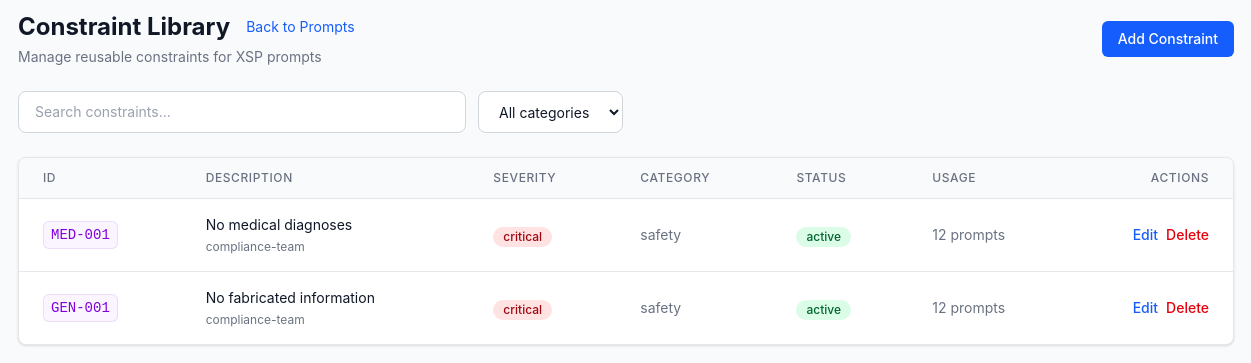
Test: ConstraintLibrary › filters constraints by search input
Expected: the text "MED-001" is shown, [43,221,118,249]
In the field with placeholder "Search constraints...": (242, 112) [18,91,466,133], type "fabricated"
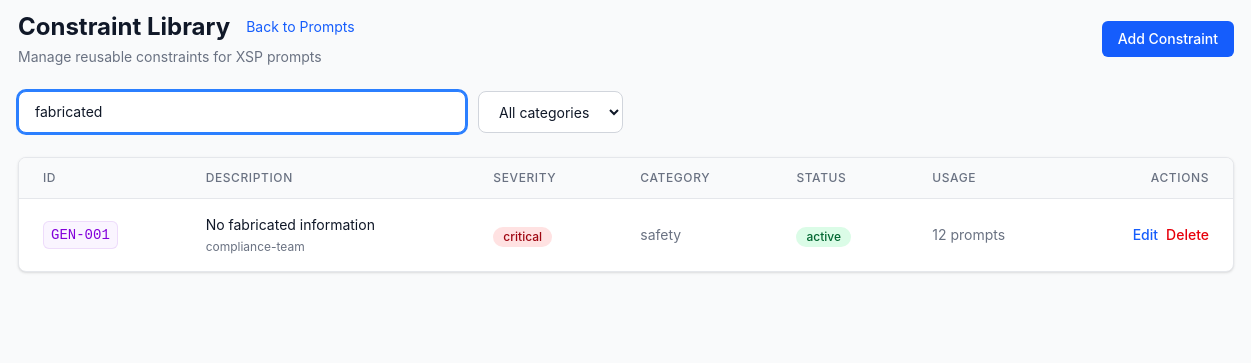
Expected: the text "GEN-001" is shown, [43,221,118,249]
Expected: the text "MED-001" is gone
